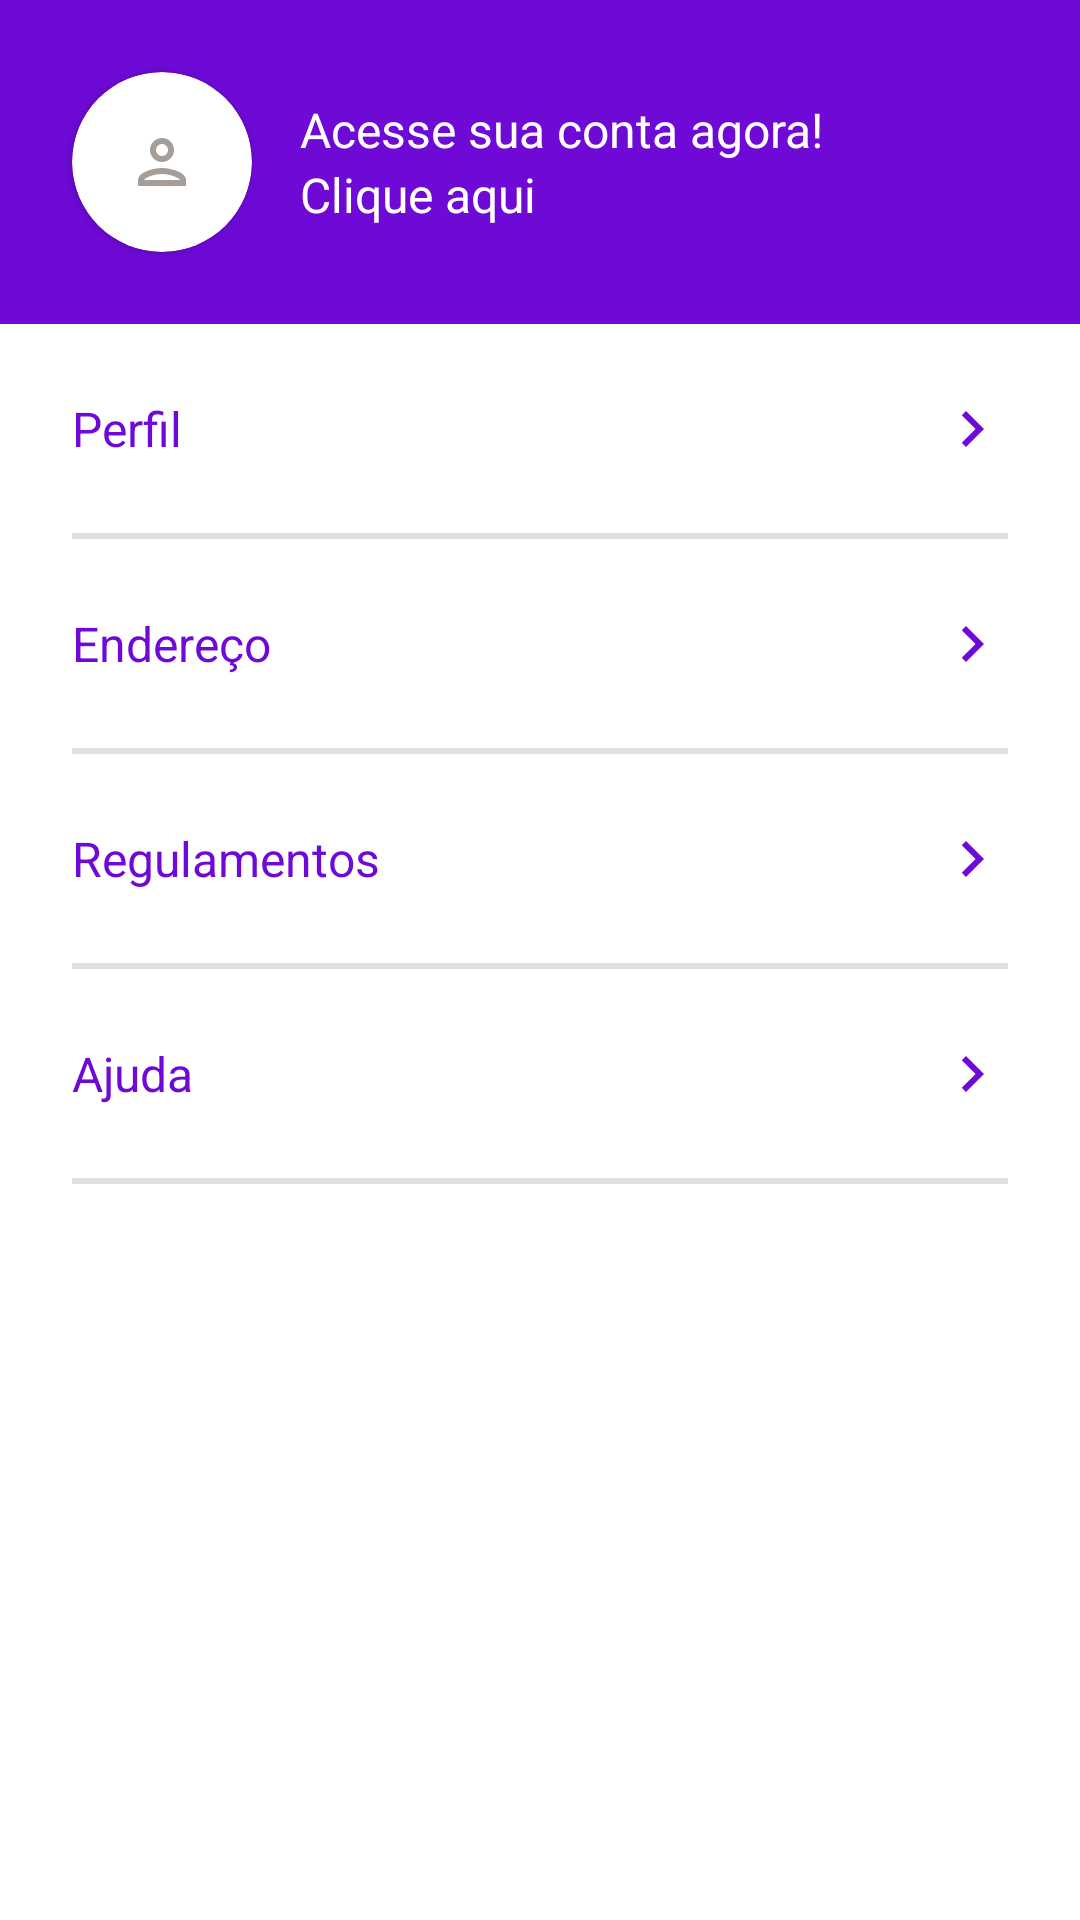

Where to tap for icons on this 1080x1920 app screen, as [x,y]:
person: [162,162]
